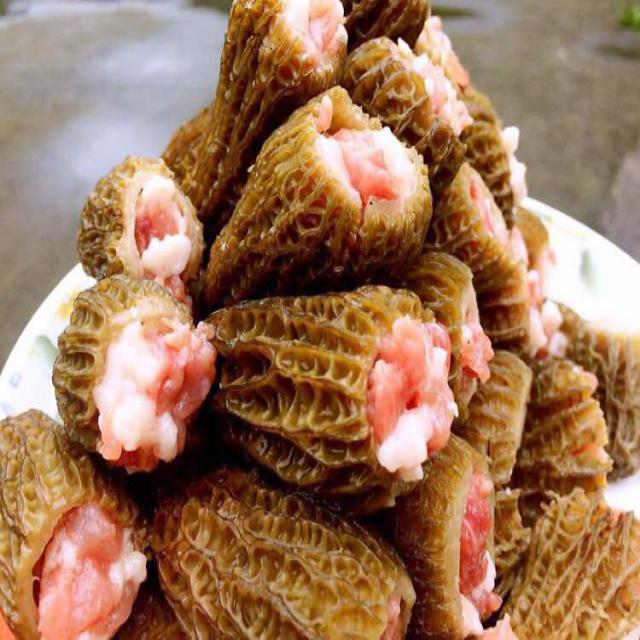Morchella esculenta: (204, 286, 460, 497), (200, 82, 438, 295), (154, 482, 420, 632), (0, 409, 147, 637), (52, 273, 214, 462), (82, 158, 206, 285)
